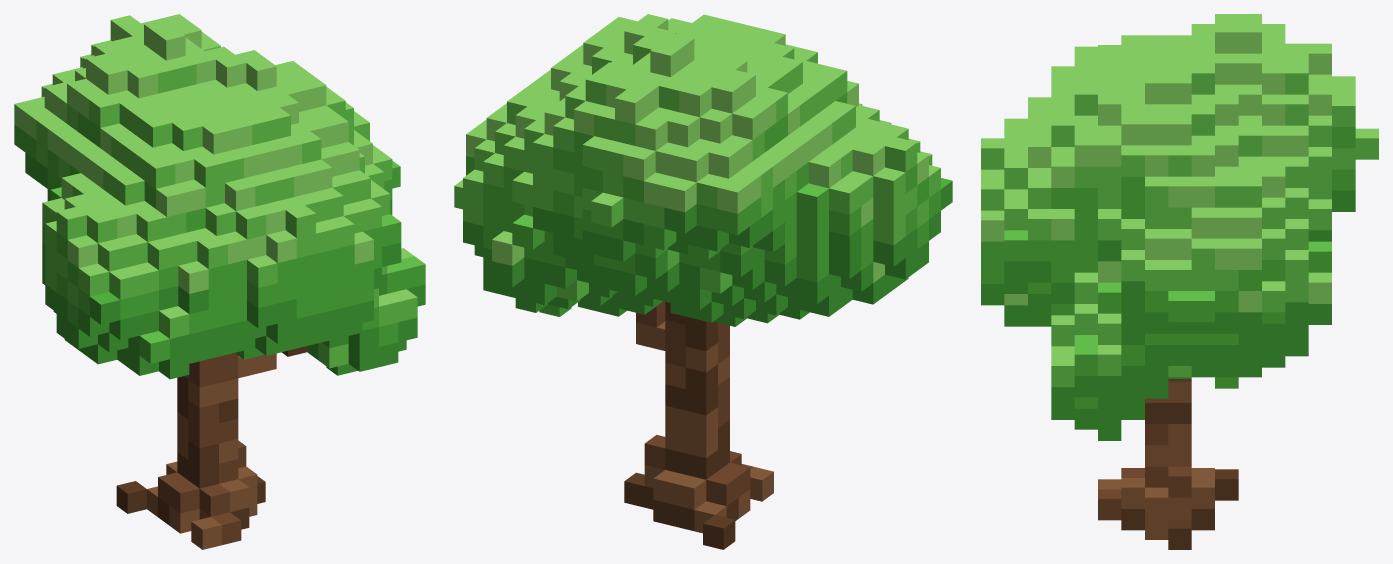
The model's file is voxelbaum_wiese_rund_grob.fbx.
3 renders of one model, left to right at view 1: azimuth 30°, elevation 25°; view 2: azimuth 150°, elevation 25°; view 3: azimuth 270°, elevation 25°, orthographic. The views are drawn at different scales.
Parts seen in each view (by area): view 1: VoxelBaum_wiese_rund_grob; view 2: VoxelBaum_wiese_rund_grob; view 3: VoxelBaum_wiese_rund_grob.
Boxes of the visible parts, box(x1,y1,x2,y2) form: VoxelBaum_wiese_rund_grob: box(14, 14, 425, 549); VoxelBaum_wiese_rund_grob: box(454, 14, 952, 549); VoxelBaum_wiese_rund_grob: box(981, 14, 1378, 549).
Bounding box in the file's own units: 14.25 × 17.25 × 12.75.
Materials: 1 (1 with a texture image).
